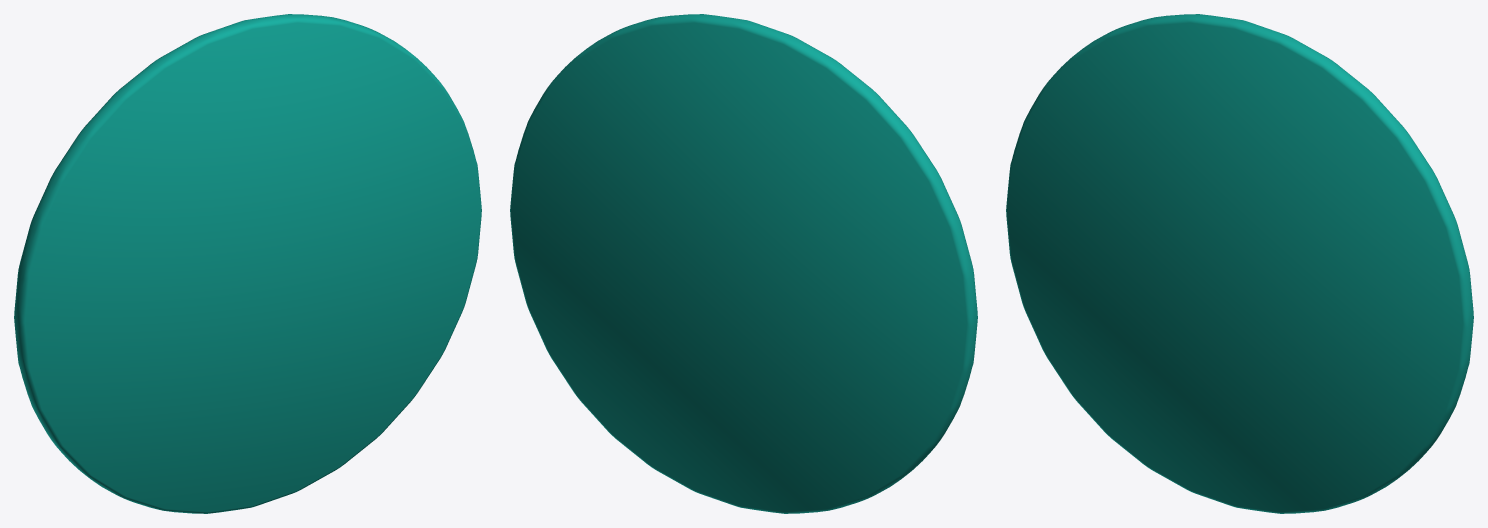
The picture shows the model from 3 angles, left to right: view 1: azimuth 30°, elevation 25°; view 2: azimuth 150°, elevation 25°; view 3: azimuth 330°, elevation 25°; orthographic projection.
Size of the model in its own units: 0.2668 by 0.2668 by 0.00968.
